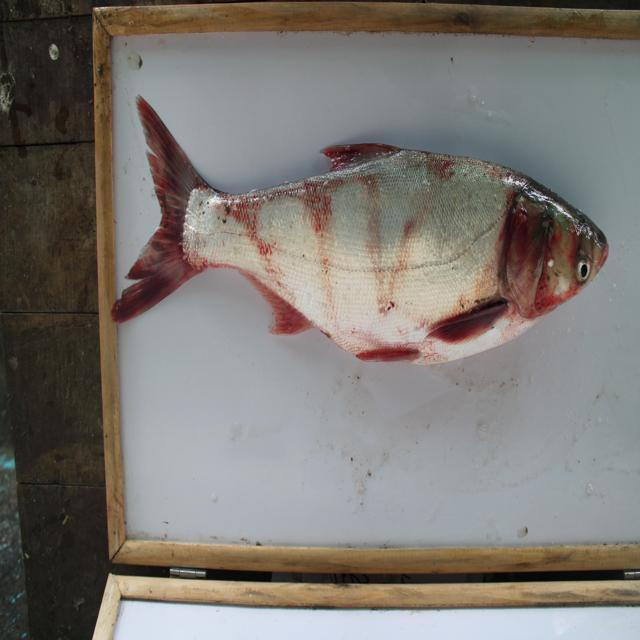SilverCarp: (115, 100, 613, 374)
